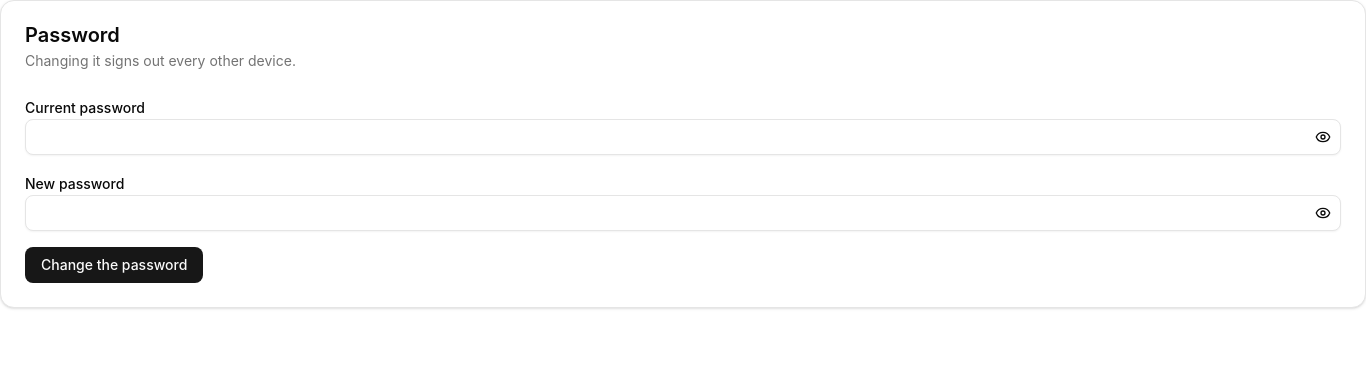
requires both passwords
Click the button "Change the password": (114, 265) [25,247,203,283]
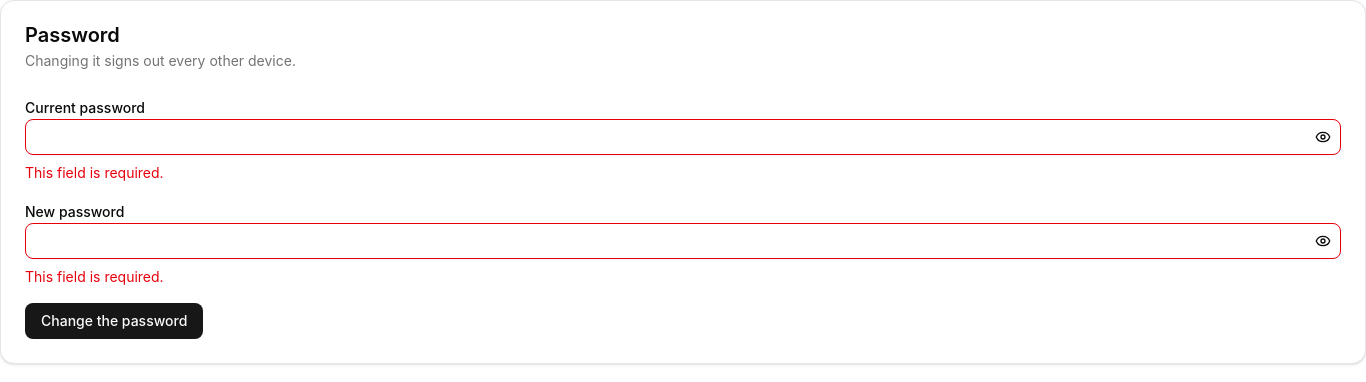
Expected: the text "This field is required." is shown 2 times, [25,164,164,181]; [25,268,164,285]
